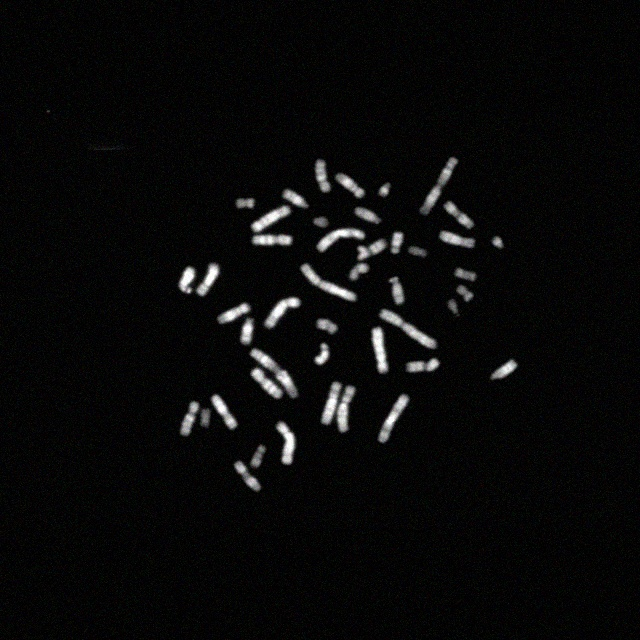chromosome: (250, 348, 298, 398), (300, 260, 356, 302), (381, 308, 437, 349), (420, 158, 458, 216), (379, 394, 411, 444), (317, 228, 365, 252), (251, 206, 293, 232), (266, 298, 300, 330), (250, 367, 282, 399), (276, 418, 296, 466), (211, 393, 237, 429), (334, 172, 366, 200), (444, 201, 476, 229), (338, 387, 357, 433), (233, 460, 260, 492), (321, 382, 341, 424), (216, 303, 252, 325), (372, 326, 388, 374), (197, 262, 219, 296), (489, 358, 517, 384), (178, 400, 198, 436), (356, 239, 388, 261), (405, 356, 439, 376), (439, 230, 476, 248), (251, 232, 293, 246), (284, 188, 310, 210), (316, 160, 332, 194), (388, 275, 406, 305), (354, 206, 382, 224), (178, 267, 196, 293), (250, 442, 268, 468), (314, 342, 331, 366), (348, 263, 369, 281), (408, 243, 428, 259), (458, 284, 474, 304), (316, 318, 336, 334), (242, 318, 254, 344), (454, 268, 478, 280), (237, 196, 256, 210), (392, 232, 404, 254), (378, 182, 392, 200), (314, 214, 328, 230), (448, 302, 462, 318), (200, 408, 210, 428), (492, 236, 504, 248)
